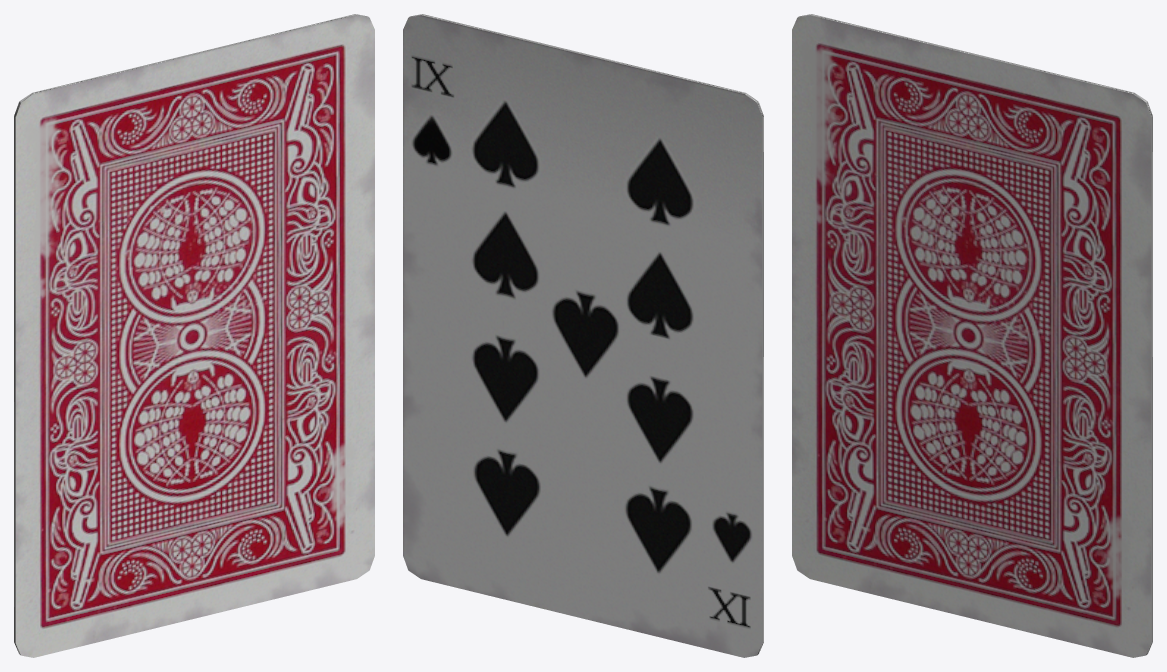
Rendered from card_spade.fbx.
The picture shows the model from 3 angles, left to right: view 1: azimuth 30°, elevation 25°; view 2: azimuth 150°, elevation 25°; view 3: azimuth 330°, elevation 25°; orthographic projection.
Parts seen in each view (by area): view 1: pPlane1; view 2: pPlane1; view 3: pPlane1.
Part boxes in pixels (left/top/right/bottom): pPlane1: left=14, top=14, right=374, bottom=657; pPlane1: left=403, top=14, right=763, bottom=657; pPlane1: left=792, top=14, right=1152, bottom=657.
Size of the model in its own units: 39.64 by 59.46 by 0.3284.
1 material, 1 textured.
